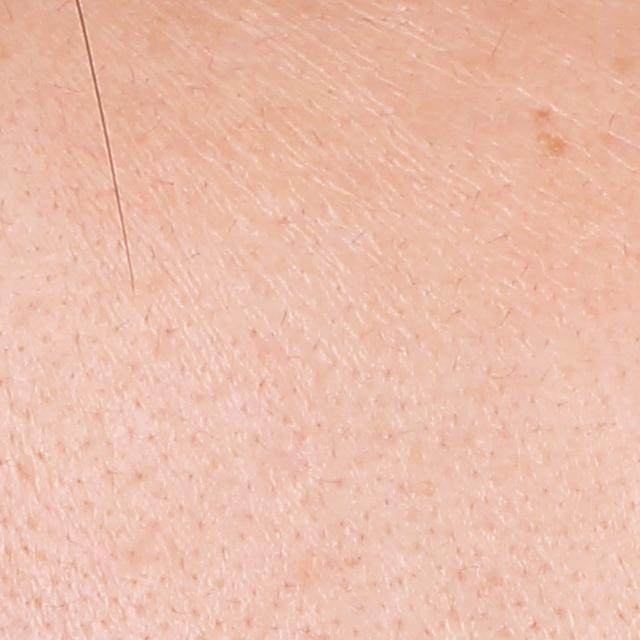melasma: (533, 103, 570, 166)
